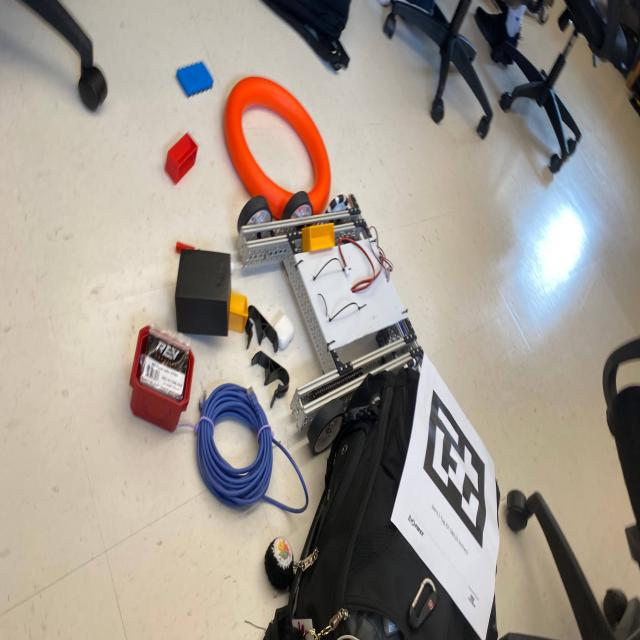red-specimen: (165, 133, 197, 184)
yellow-specimen: (302, 222, 335, 252), (229, 292, 248, 333)
